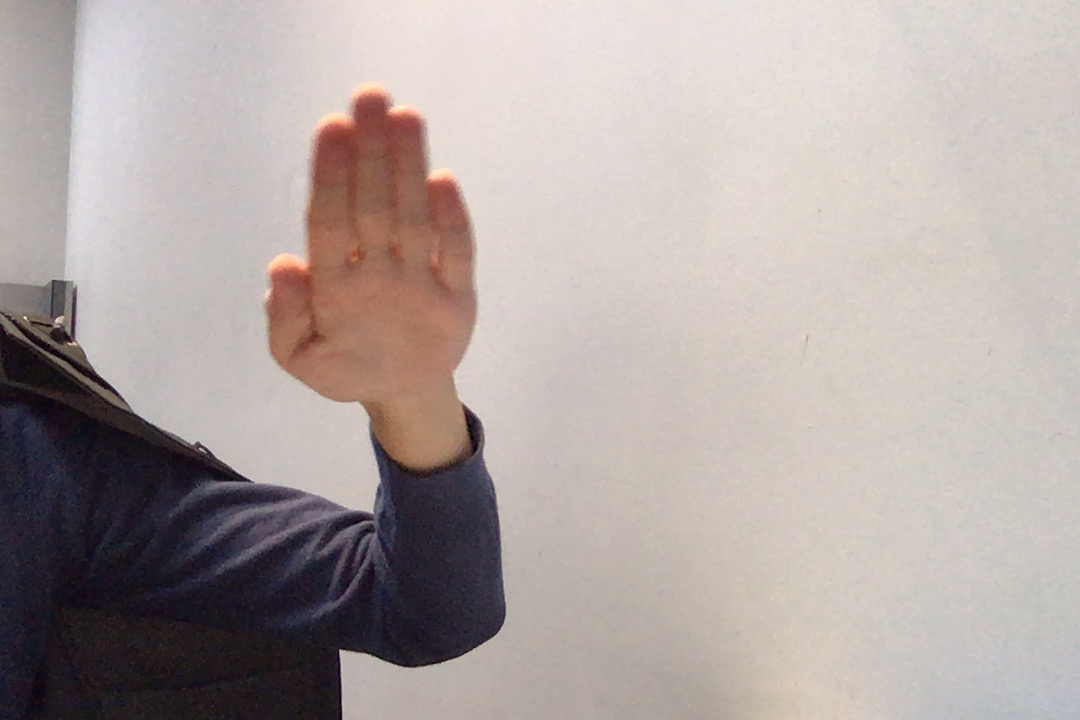palmhand: (253, 81, 486, 412)
